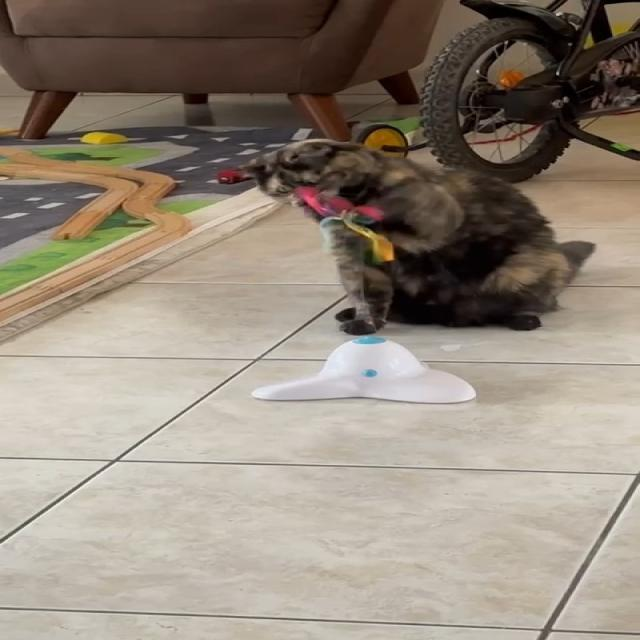authorized: (236, 137, 596, 336)
